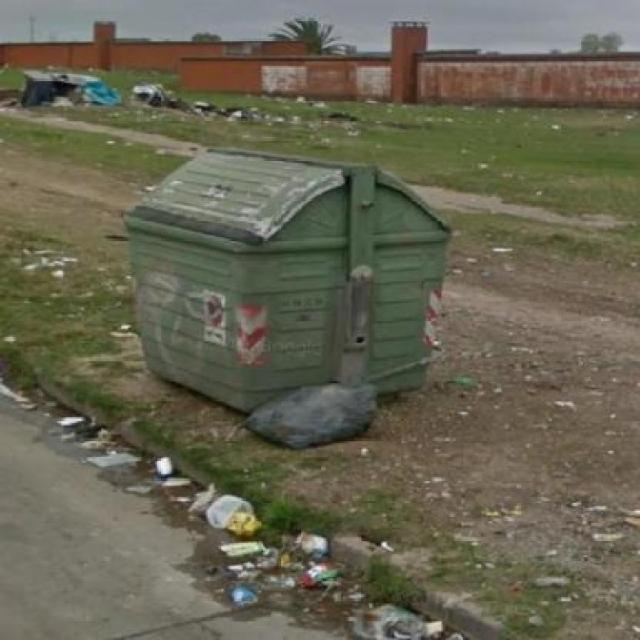garbage: (162, 466, 288, 557), (16, 65, 185, 120), (255, 377, 378, 438), (49, 415, 168, 470), (219, 552, 306, 624), (297, 603, 412, 639)
